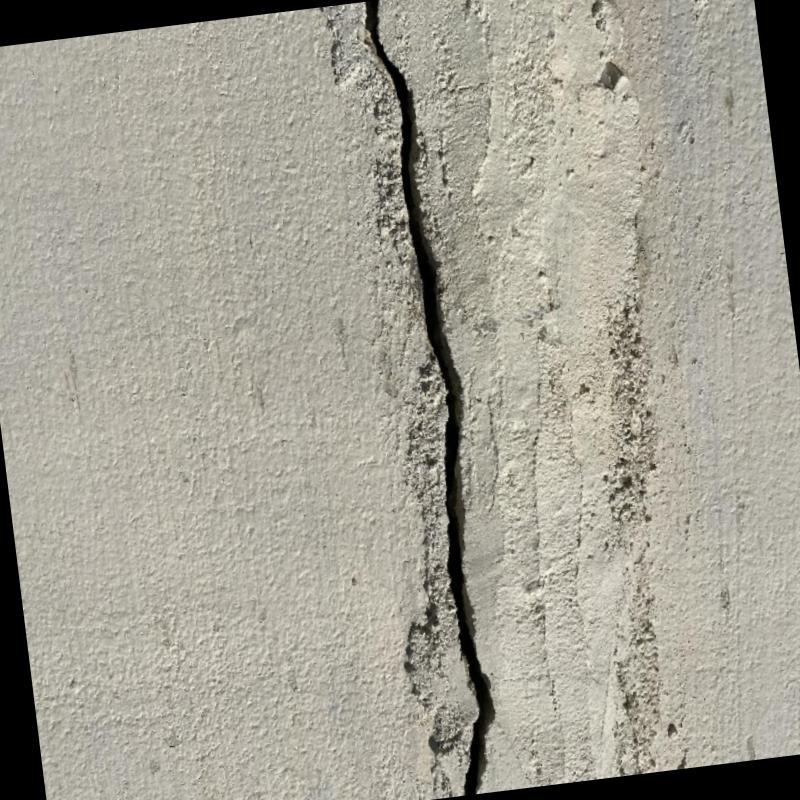pothole: (354, 2, 497, 790)
